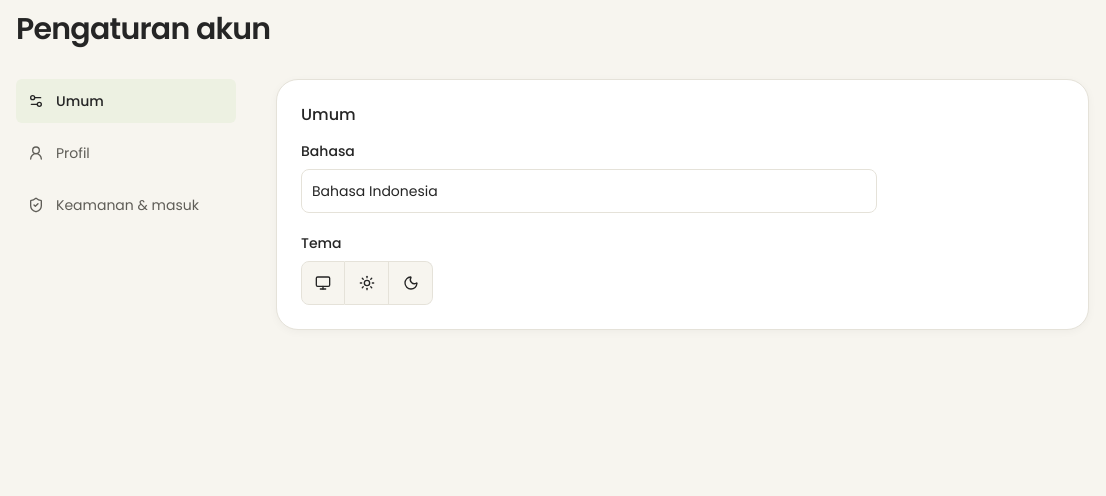
PengaturanAdminPage › menampilkan informasi admin setelah guard dijalankan
What coordinates should you click on to do the following:
click the button "Profil"
I would click on:
 (126, 153)
Its box is [16, 131, 236, 175].
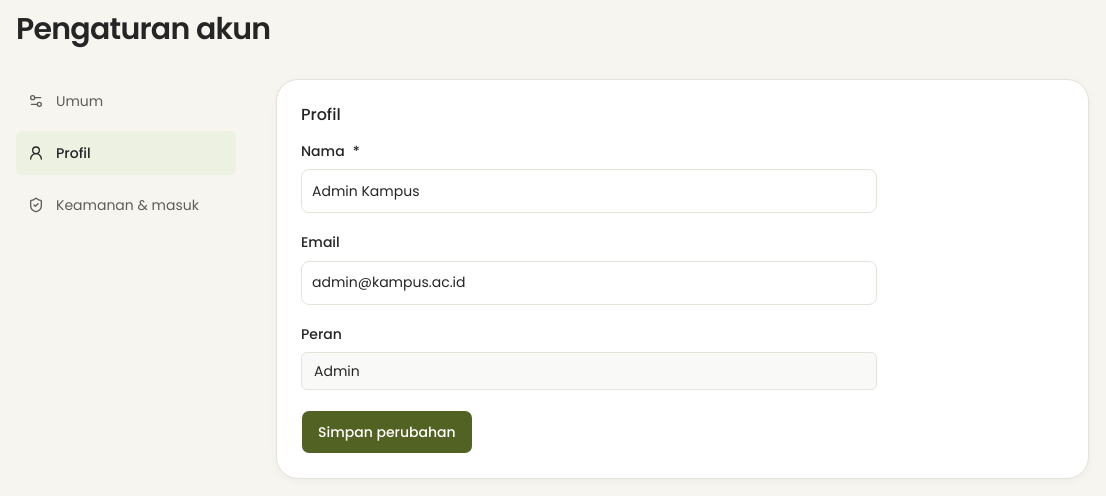
expect the field labelled "Nama *" holds "Admin Kampus": met, box [301, 169, 877, 213]
expect the field labelled "Email" holds "admin@kampus.ac.id": met, box [301, 260, 877, 304]
